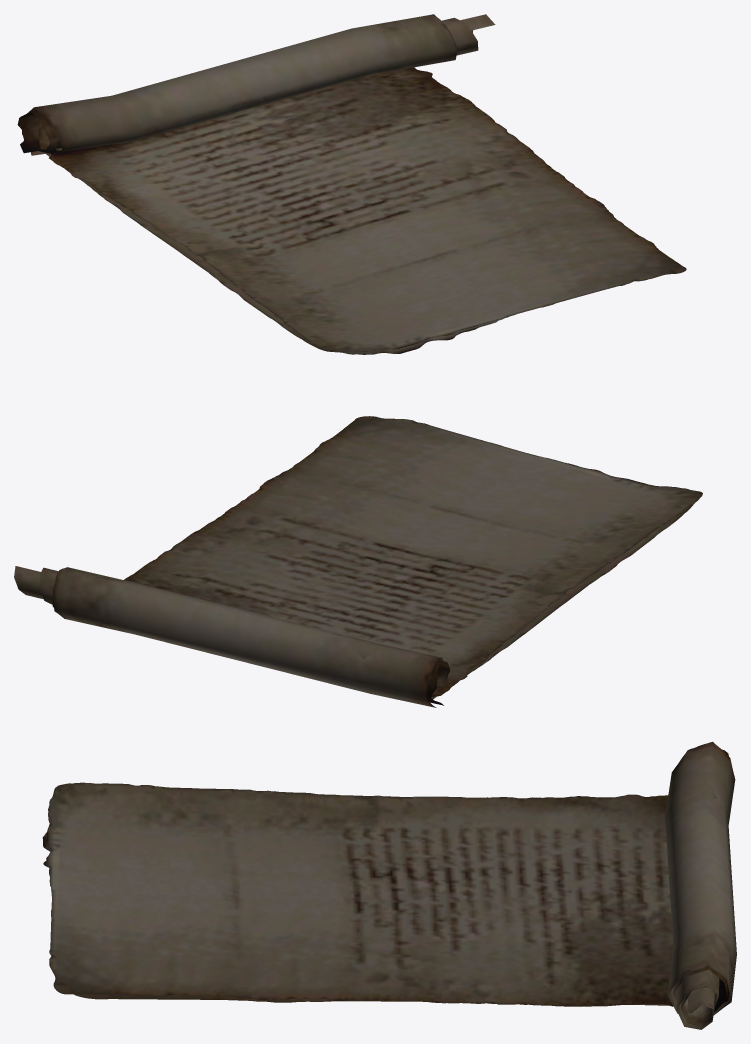
Rendered from note_scroll.dae.
3 views of the same model, one above another, from view 1: azimuth 30°, elevation 25°; view 2: azimuth 150°, elevation 25°; view 3: azimuth 270°, elevation 25° (orthographic). The views are drawn at different scales.
Visible parts, largest first — view 1: note_scroll_mesh; view 2: note_scroll_mesh; view 3: note_scroll_mesh.
Boxes of the visible parts, box(x1,y1,x2,y2) form: note_scroll_mesh: box(17, 14, 686, 354); note_scroll_mesh: box(14, 416, 702, 707); note_scroll_mesh: box(42, 741, 736, 1029).
Bounding box in the file's own units: 0.3096 × 0.0348 × 0.3701.
